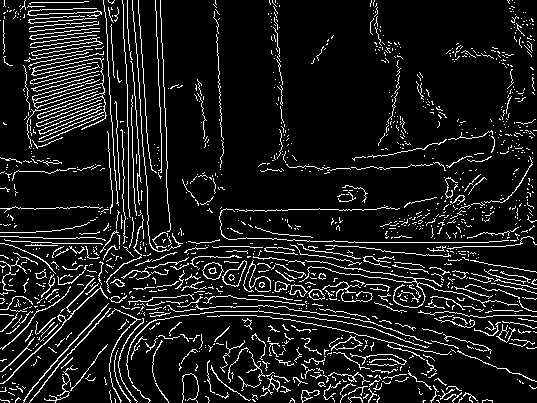cucumber: (98, 237, 537, 358)
